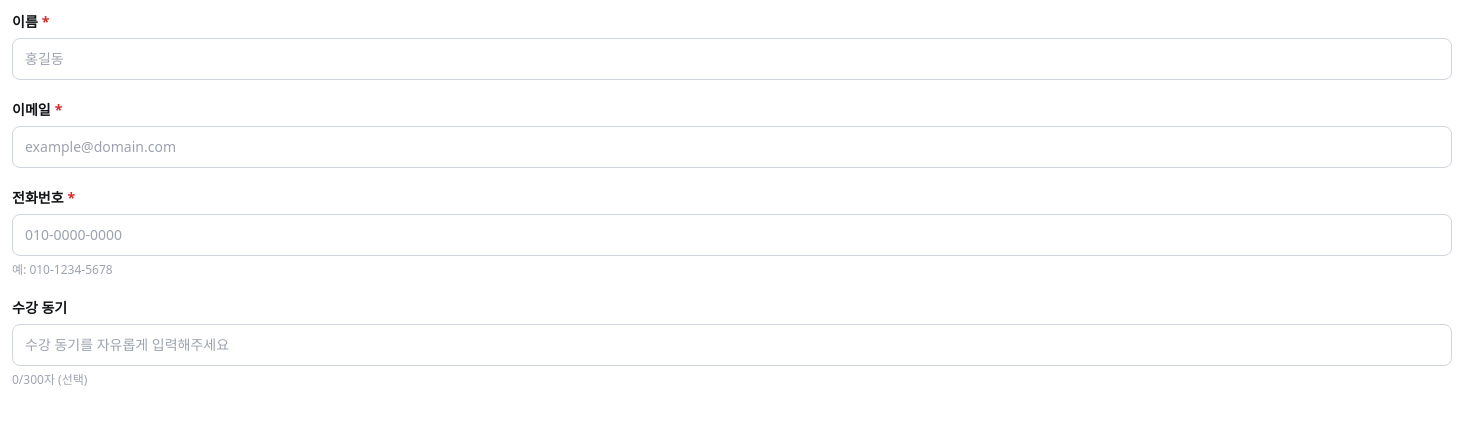
Scenario: ApplicantFields › 이름 1자 → 2자 이상 에러
This screenshot has width=1464, height=425.
Type "김" into the field with placeholder "홍길동".
click(732, 59); type("김")  # box x1=12 y1=38 x2=1452 y2=80
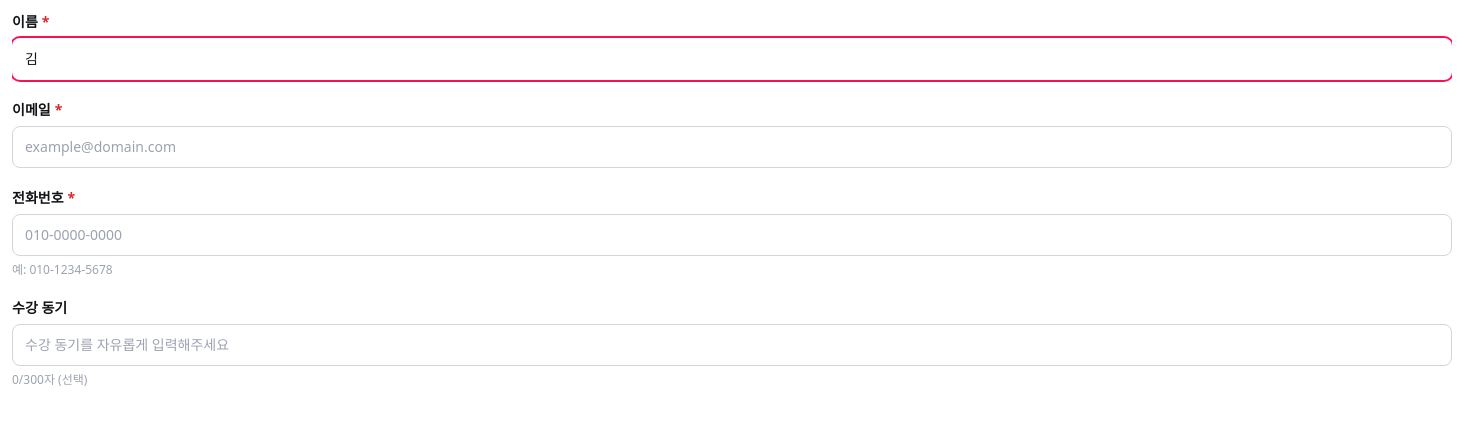
Press Tab
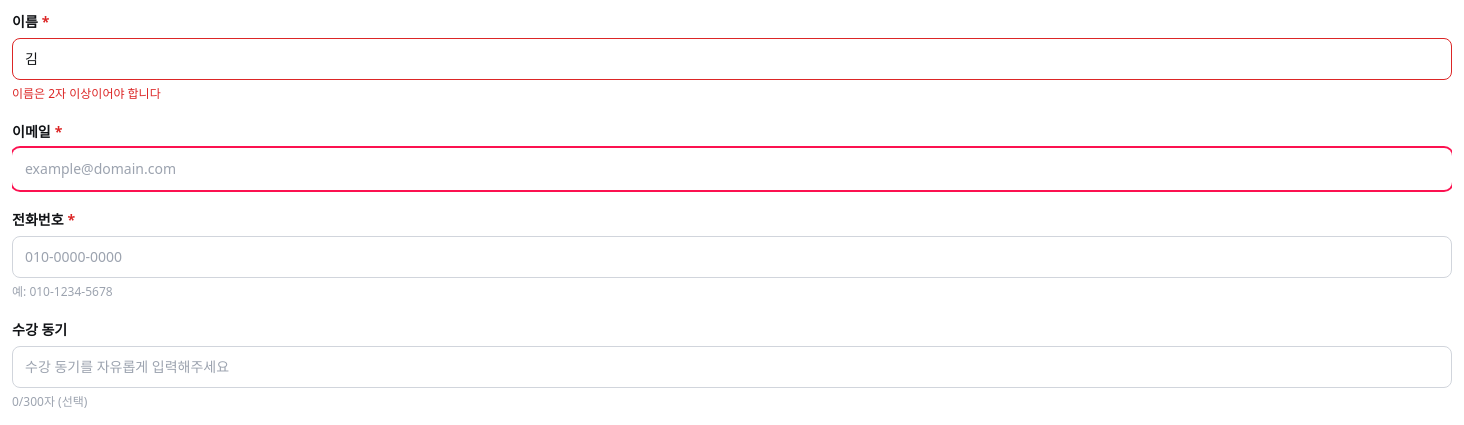
Check: the message shows "2자 이상", box x1=12 y1=85 x2=161 y2=102
